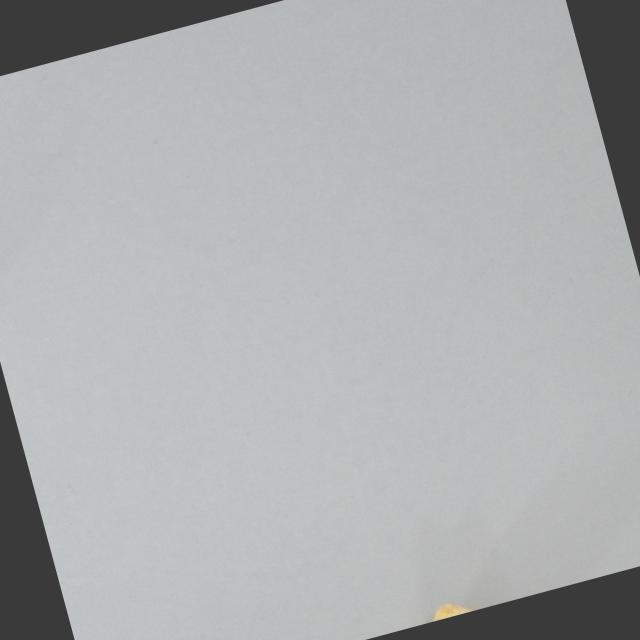punto_negro: (410, 578, 520, 626)
